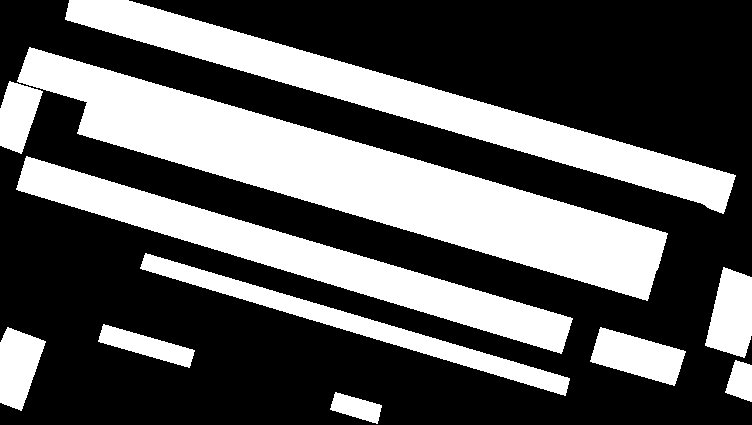parkingspot: (17, 47, 667, 269), (65, 0, 735, 213), (77, 101, 657, 300), (16, 156, 572, 353), (140, 253, 569, 395), (590, 327, 685, 385), (705, 267, 752, 357), (98, 324, 194, 367), (0, 327, 45, 410), (0, 81, 42, 153), (330, 392, 381, 423), (725, 360, 752, 401)
